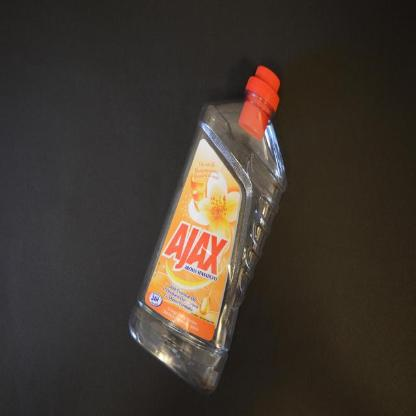Plastic Bottle: (129, 66, 287, 394)
